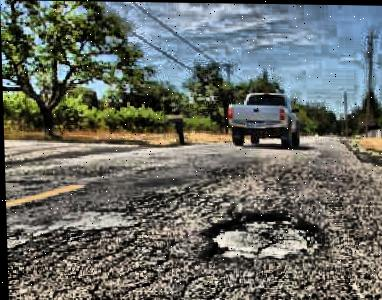pothole: (200, 208, 322, 263)
